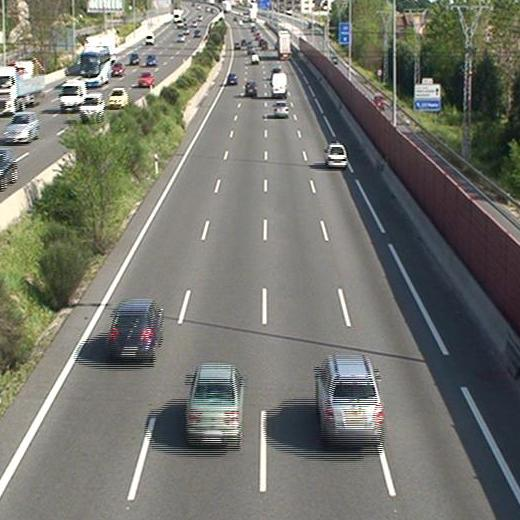car: (317, 357, 382, 437), (187, 366, 242, 442), (108, 301, 159, 356), (326, 145, 346, 167), (274, 101, 288, 116), (245, 81, 257, 94), (227, 74, 237, 85), (250, 54, 259, 63)
van: (271, 73, 287, 96)
